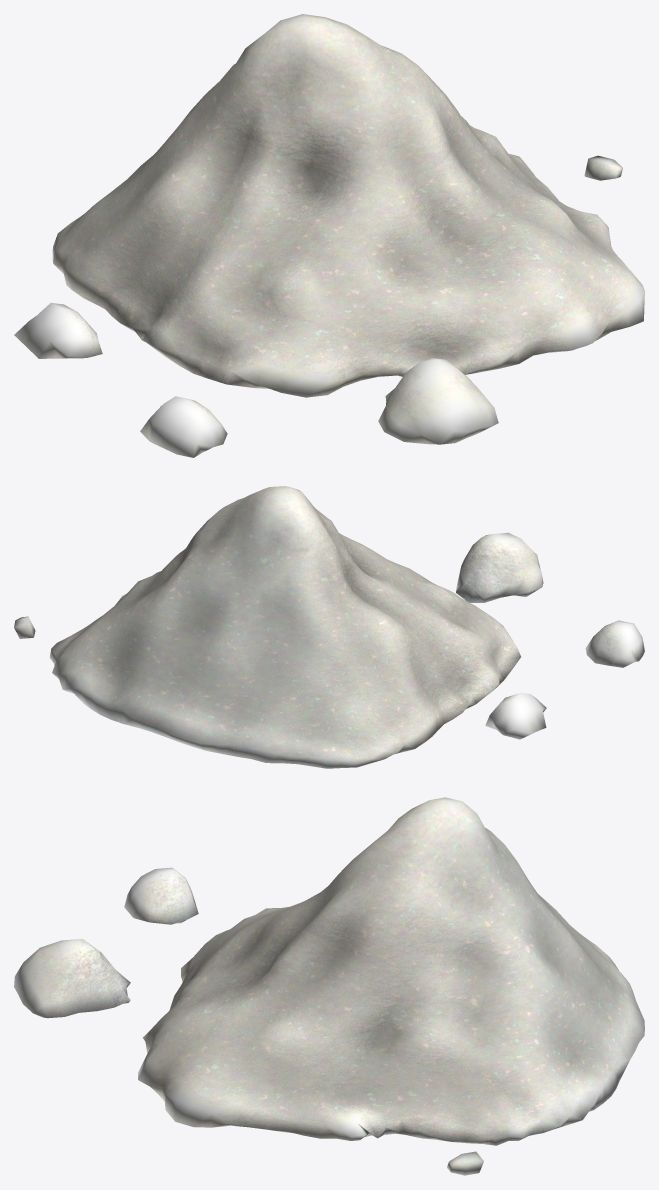
The model's file is 4.cocaine.fbx.
3 views of the same model, one above another, from view 1: azimuth 30°, elevation 25°; view 2: azimuth 150°, elevation 25°; view 3: azimuth 270°, elevation 25° (orthographic). The views are drawn at different scales.
Visible parts, largest first — view 1: LP.001_Cube.003; view 2: LP.001_Cube.003; view 3: LP.001_Cube.003.
Part boxes in pixels (box(x1,y1,x2,y2)): LP.001_Cube.003: box(14, 14, 644, 457); LP.001_Cube.003: box(14, 486, 644, 768); LP.001_Cube.003: box(14, 797, 644, 1175).
Bounding box in the file's own units: 495 × 194 × 462.
